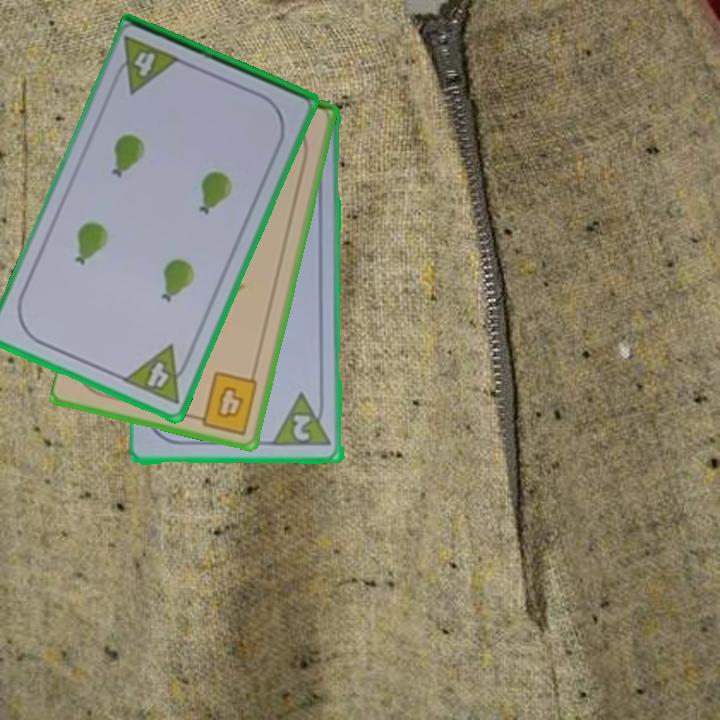2p: (271, 390, 335, 450)
4b: (189, 368, 261, 438)
4p: (120, 341, 196, 407), (108, 33, 184, 97)
